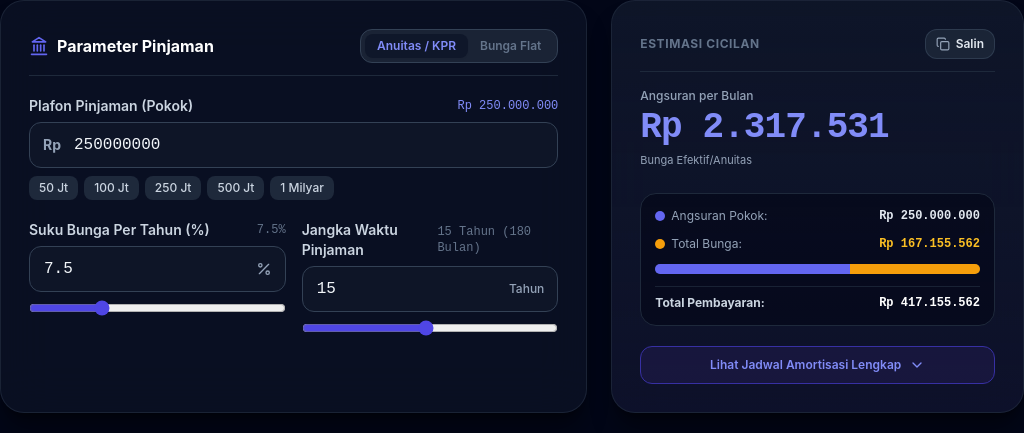
Test: FinancialCalculator Component Suite › LoanCalculator › toggles between annuity and flat interest methods
This screenshot has width=1024, height=433.
Click the button "Bunga Flat": click(511, 46) [468, 34, 553, 58]
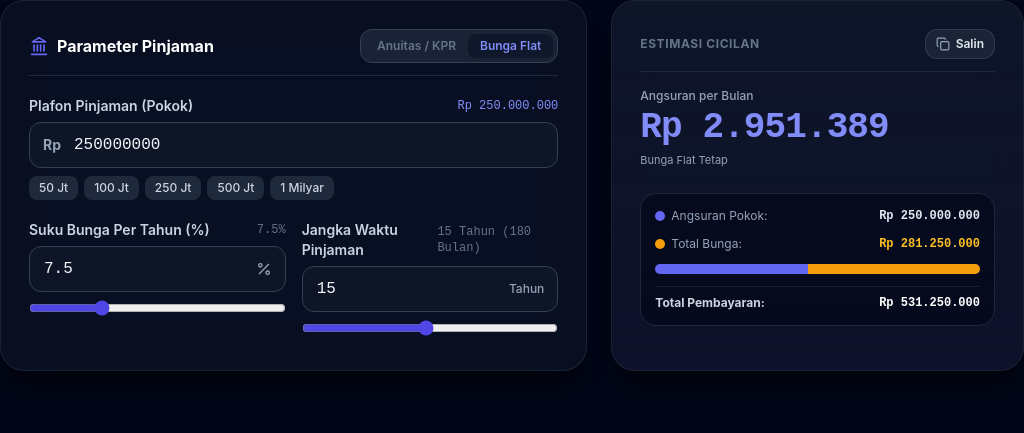
Result: the text "Bunga Flat Tetap" is shown at [640, 153, 728, 167]
